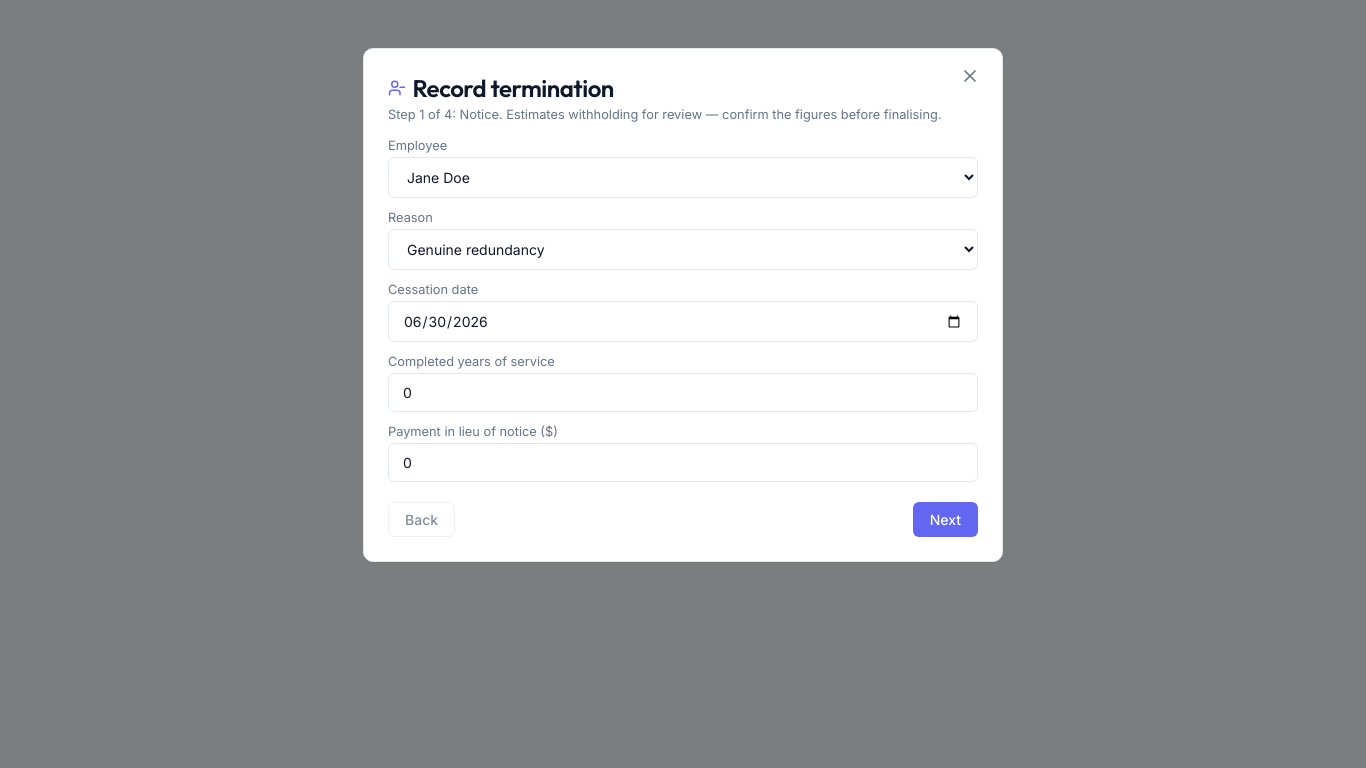
Test: TerminationWizard (SC-3.L.03) › hides "Save & finalise" for non-owners
This screenshot has width=1366, height=768.
Click the button "Next" at coordinates (945, 520), box 913,502 -> 978,537
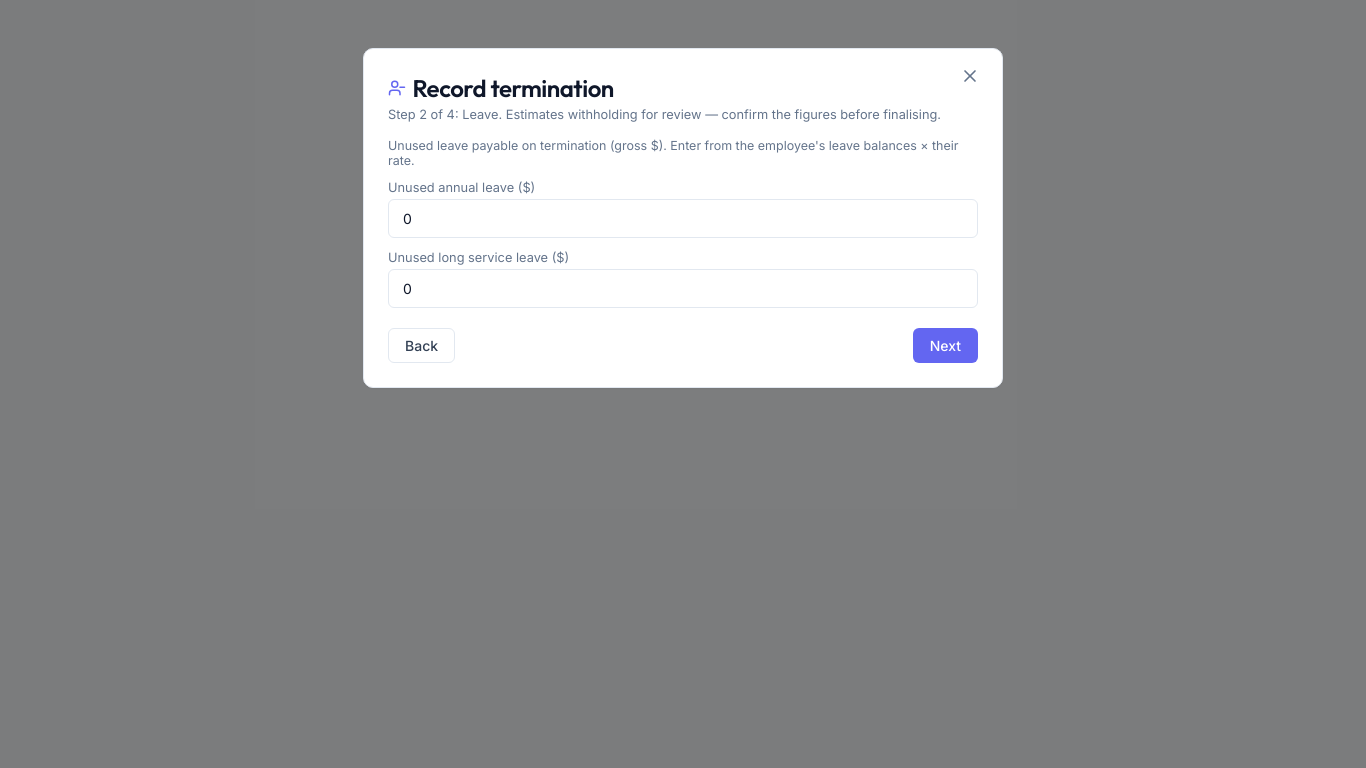
Click the button "Next" at coordinates (945, 346), box 913,328 -> 978,363
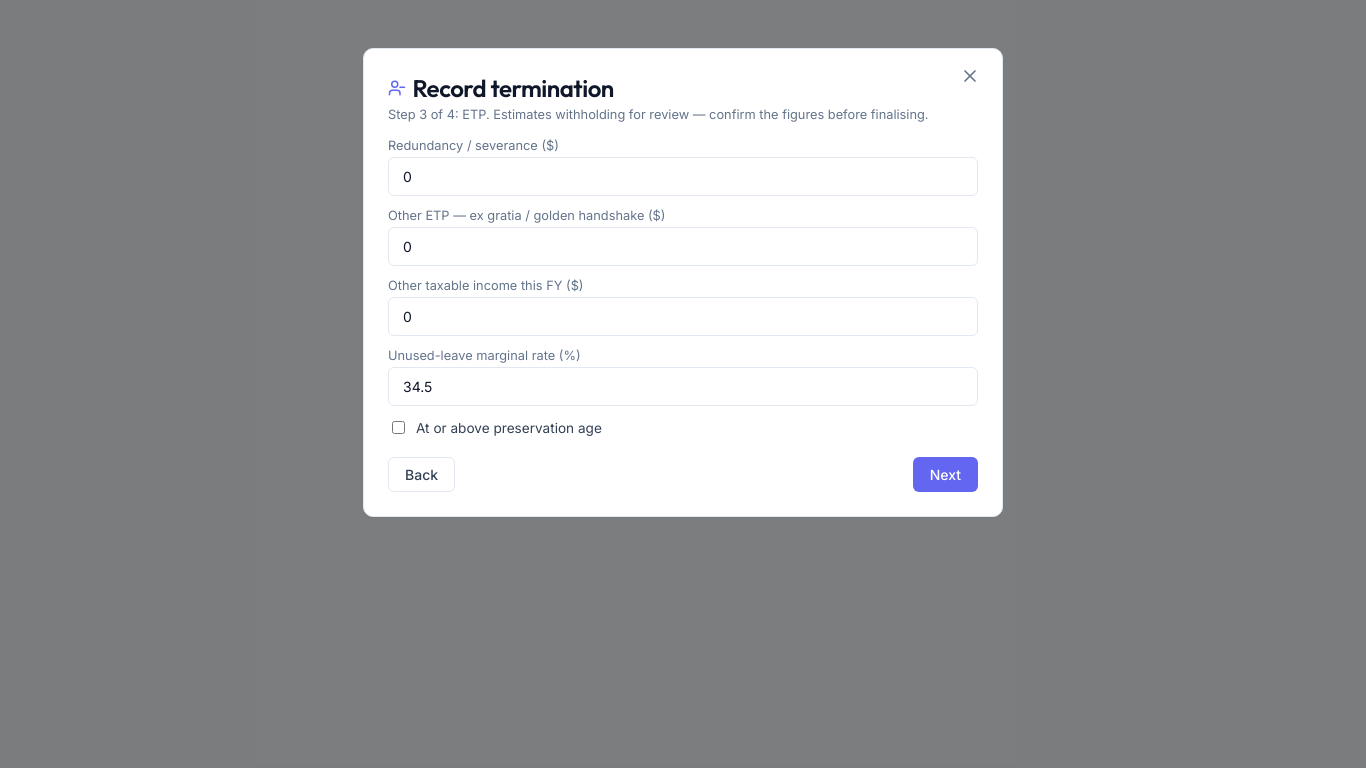
Click the button "Next" at coordinates (945, 474), box 913,457 -> 978,492
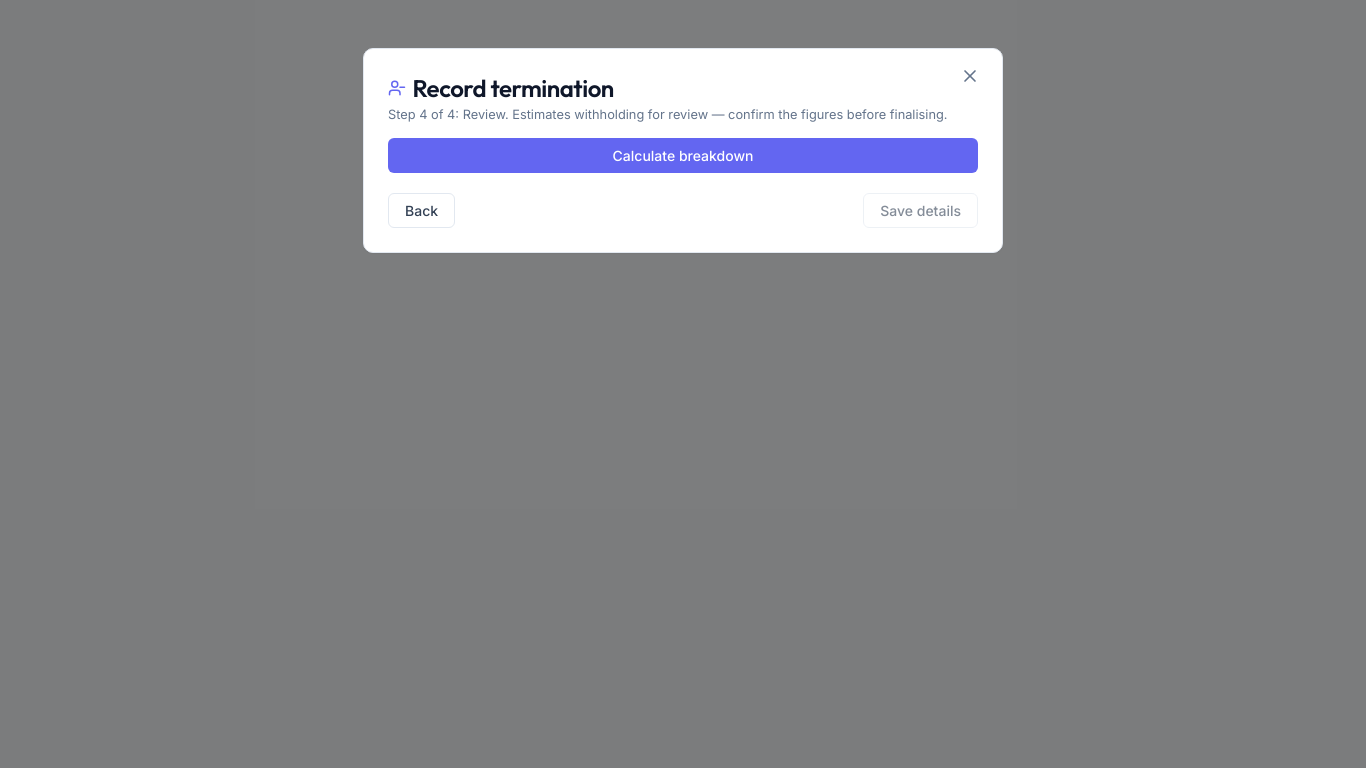
Click the button "Calculate breakdown" at coordinates (683, 156), box 388,138 -> 978,173
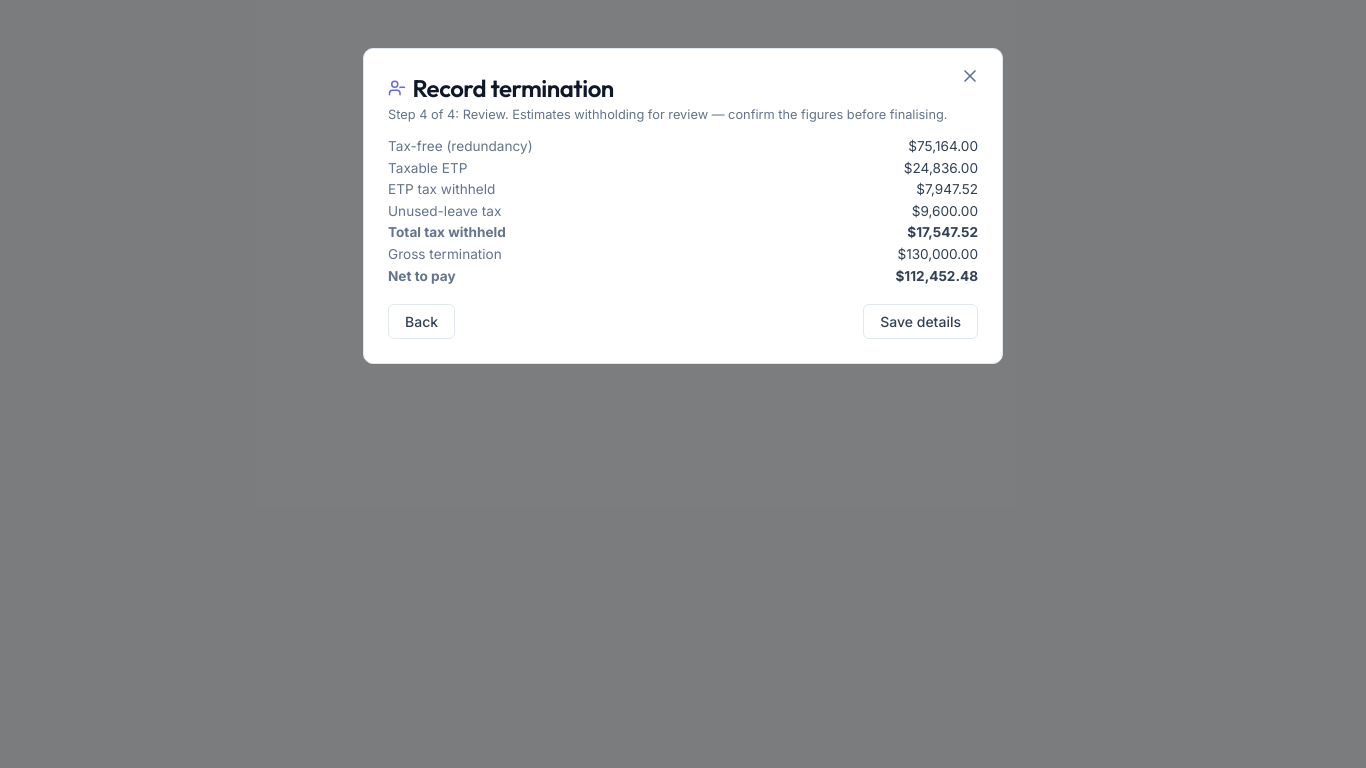
Now the button "Save details" is shown, box 863,304 -> 978,339
Now the text "Total tax withheld" is shown, box 388,224 -> 506,240
